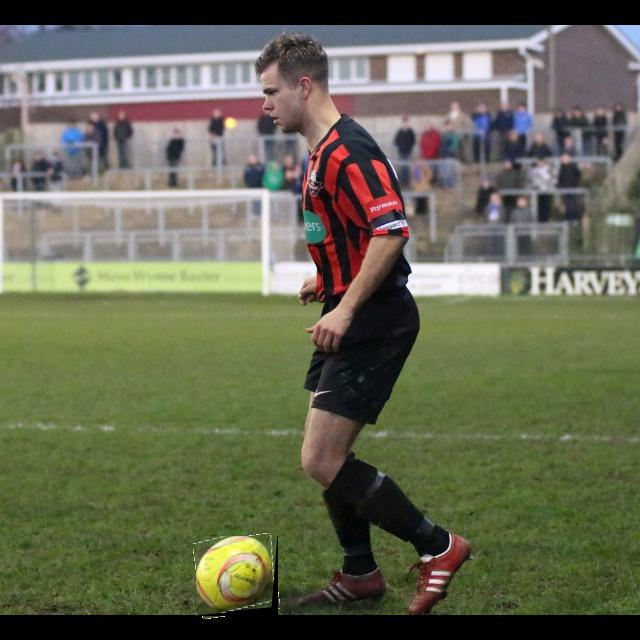Football: (196, 536, 278, 616)
